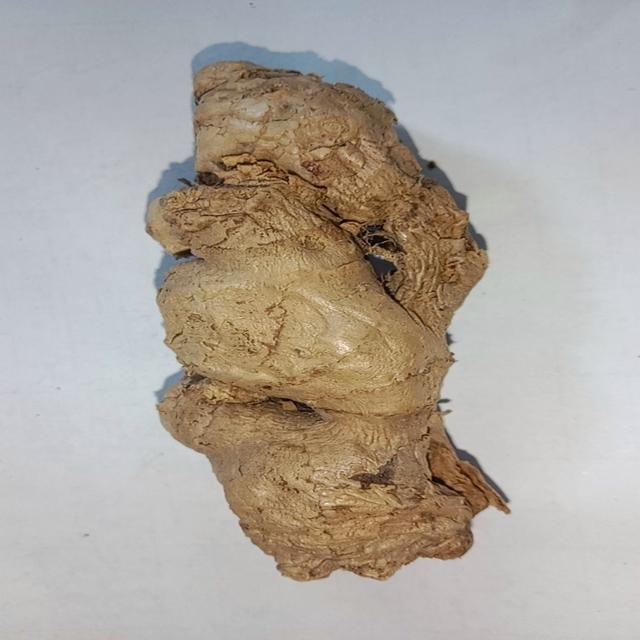ginger: (138, 63, 518, 587)
